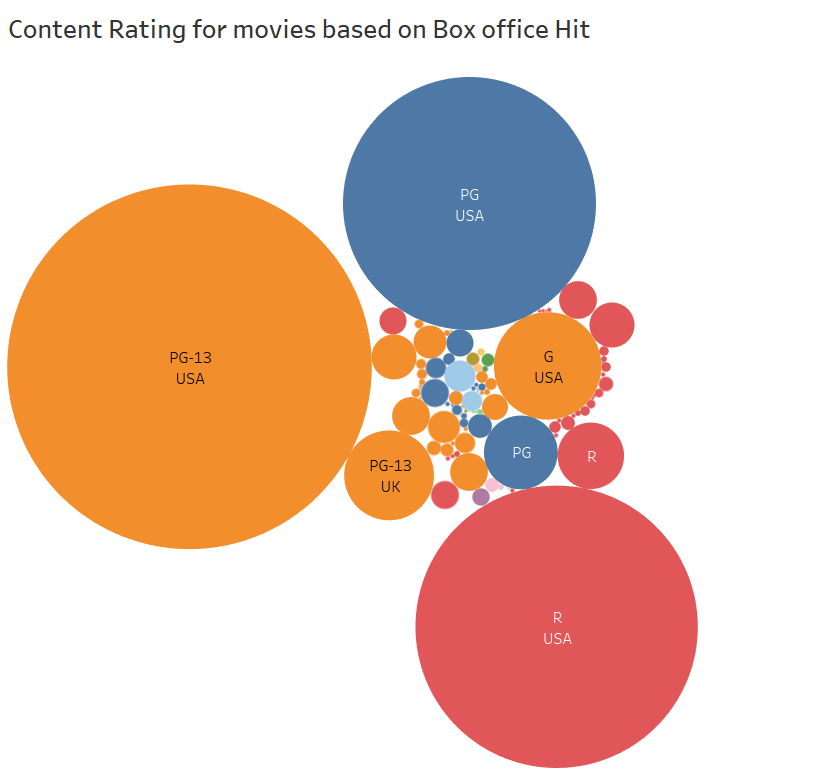

The page's visual inventory and layout, read from the dashboard file:
{"tool":"tableau","page":{"name":"Dashboard 3","canvas":[1000,800],"ordinal":2},"visuals":[{"type":"worksheet","title":"Sheet 5","mark":"Circle","box":[0,0,840,800]},{"type":"legend","title":"Sheet 5","param":"[federated.1e160na0utb0gz1e4g3et1r87qo7].[none:content_rating:nk]","box":[840,0,160,433]}]}

Visuals, with their boxes on the page's 1000x800 design canvas (x1, y1, x2, y2). These are canvas units, not pixel positions in the 819x774 screenshot, which may show the page scaled, cropped or inside an application window:
"Sheet 5" worksheet (Circle marks): locate(0, 0, 840, 800)
"Sheet 5" legend: locate(840, 0, 1000, 433)
